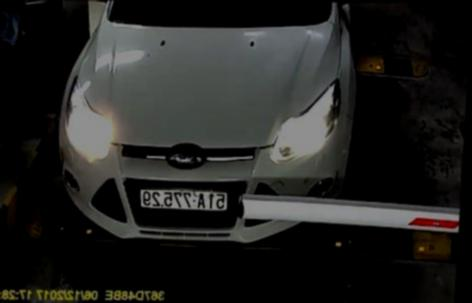License_Plate: (132, 183, 230, 216)
